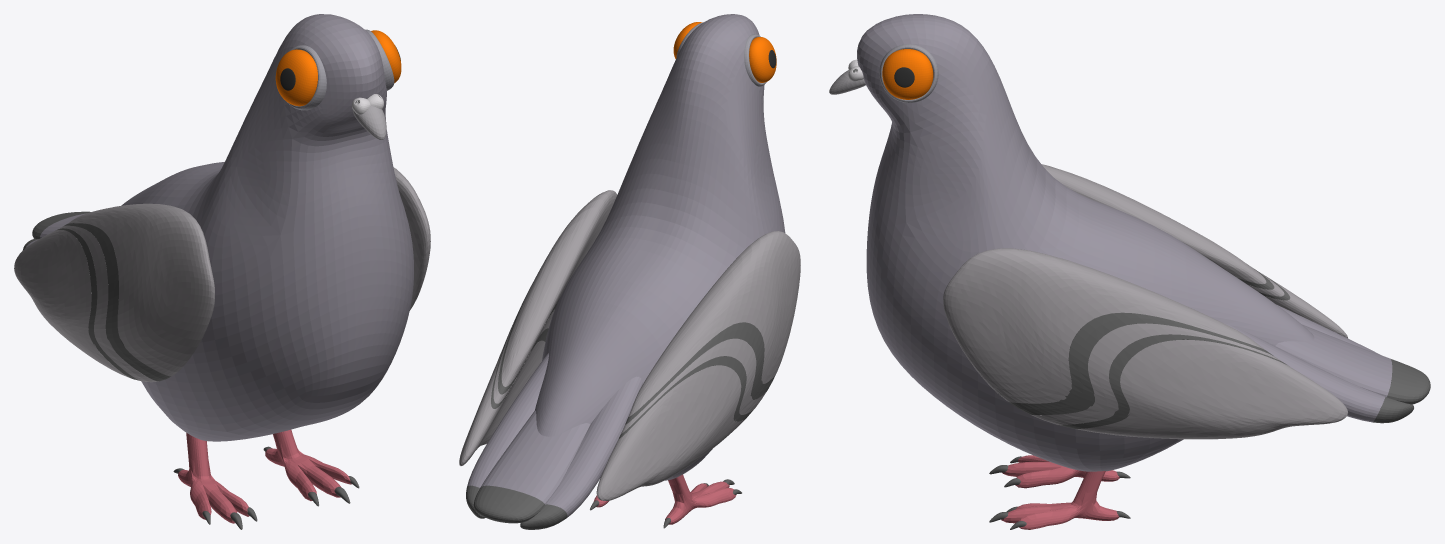
Rendered from pigeon c.glb.
3 views of the same model, side by side, from view 1: azimuth 30°, elevation 25°; view 2: azimuth 150°, elevation 25°; view 3: azimuth 270°, elevation 25° (orthographic). The views are drawn at different scales.
Visible parts, largest first — view 1: entity_2; view 2: entity_2; view 3: entity_2.
Part boxes in pixels (box(x1,y1,x2,y2)): entity_2: box(14, 14, 430, 529); entity_2: box(459, 14, 800, 529); entity_2: box(829, 14, 1430, 529).
Bounding box in the file's own units: 0.237 × 0.4441 × 0.5.
